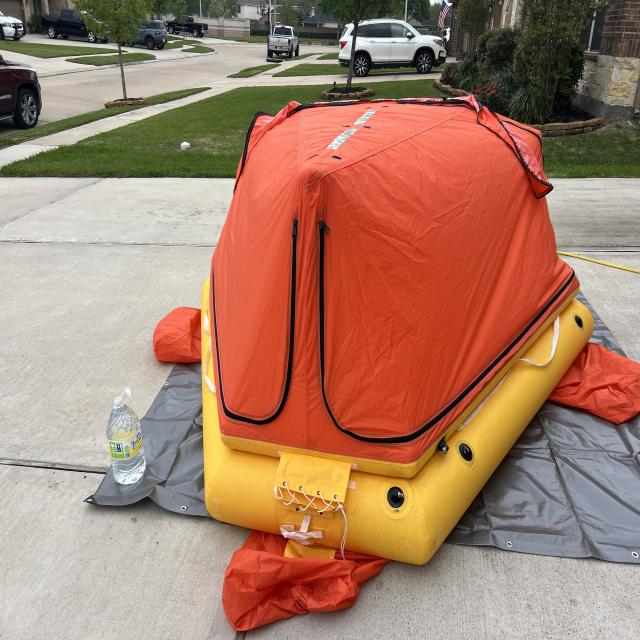Multi-person_life_raft: (154, 95, 639, 632)
